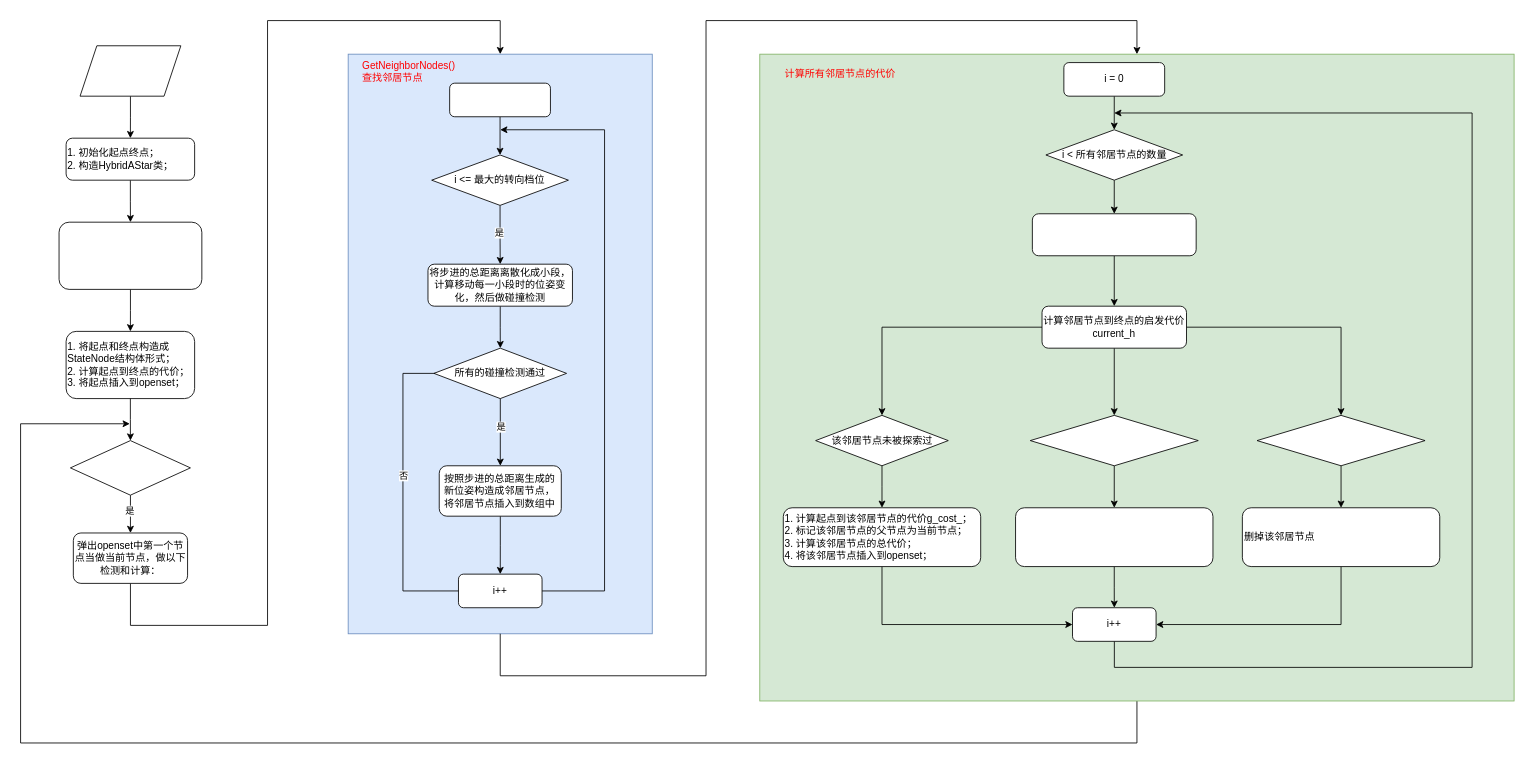
The diagram is 1529 pixels wide and 764 high, and some of its shapes have lost their labels. The shapes that lost their labels are listed below. From the top down, each one's centre as x and y in pixels, then its label:
(130,70): 开始
(499,99): i = 最小的转向档位
(1114,234): 计算当前节点到邻居节点的步进代价edge_cost
(130,255): 1. 按照高分辨率构建障碍物地图，用于碰撞检测； 2. 按照低分辨率构建节点地图，用于存放所有节点；
(1113,440): 该邻居节点已经在openset中
(1340,440): 该邻居节点已经在closeset中
(130,467): openset不为空
(1114,537): 1. 计算当前这条路线的代价； 2. 如果比已有的代价小，那么更新该邻居节点的父节点为当前节点；
